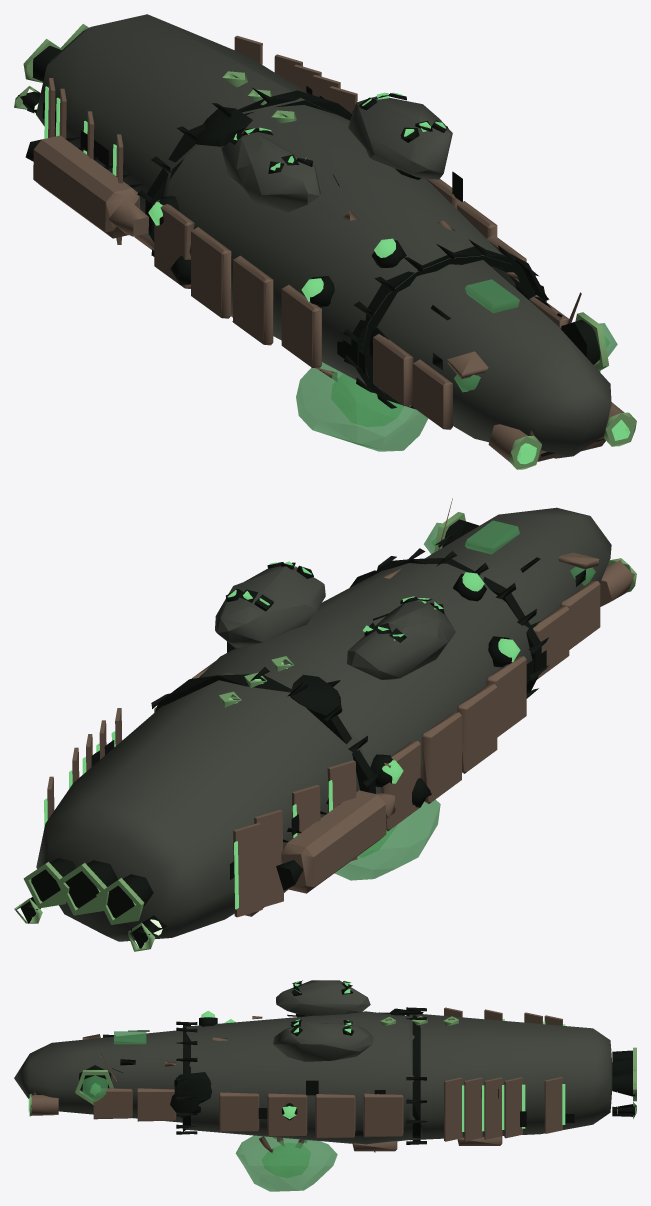
The model's file is zrost-szczepieni-coalition-38-lod1.glb.
3 views of the same model, one above another, from view 1: azimuth 30°, elevation 25°; view 2: azimuth 150°, elevation 25°; view 3: azimuth 270°, elevation 25° (orthographic). The views are drawn at different scales.
Bounding box in the file's own units: 20.4 × 21.57 × 66.67.
